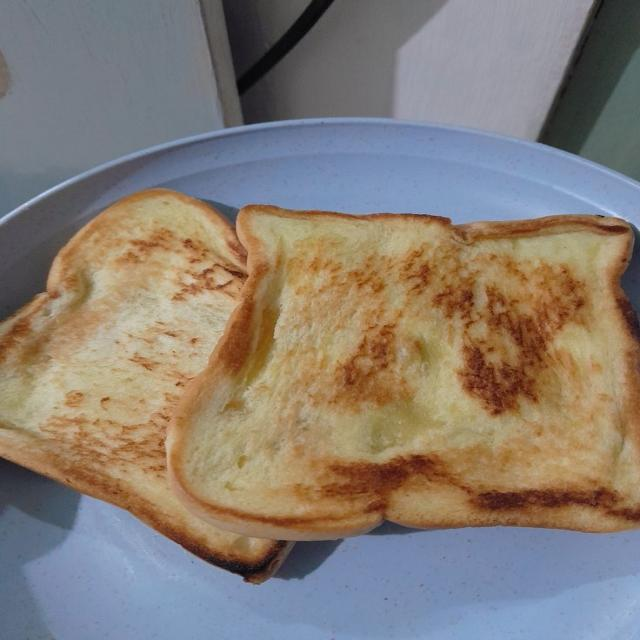toast bread: (170, 206, 639, 540), (0, 189, 293, 582)
